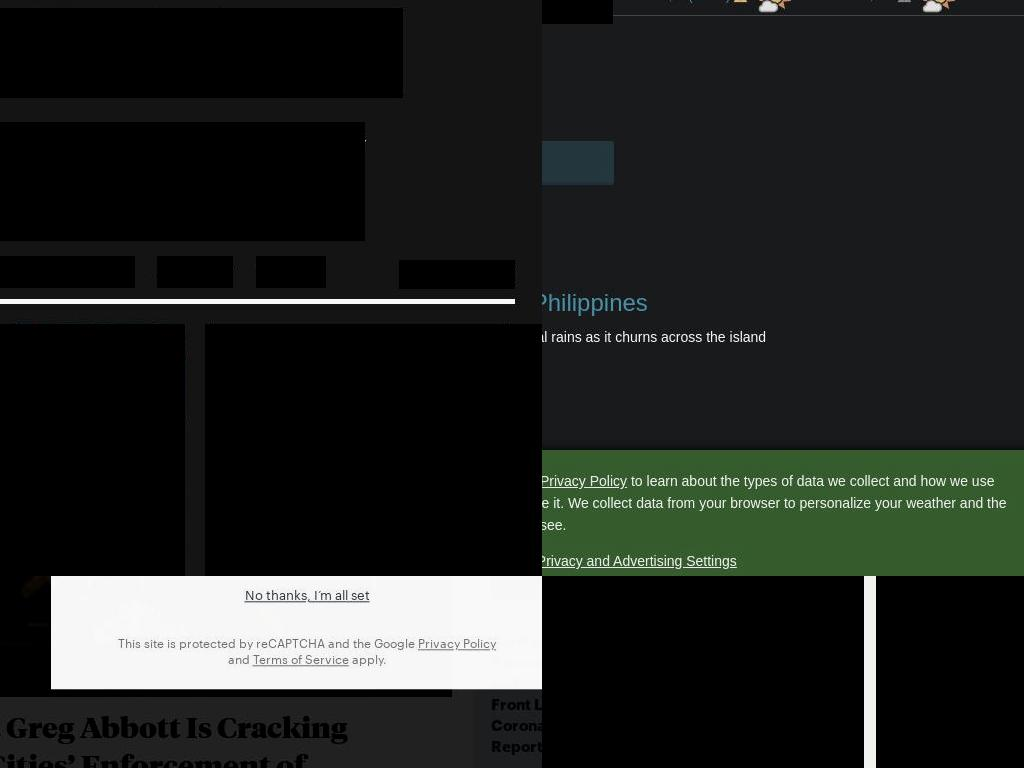button: (205, 324, 542, 576), (0, 576, 452, 697), (0, 324, 185, 576), (491, 630, 542, 757), (0, 256, 135, 288), (542, 551, 737, 572), (542, 0, 754, 15), (542, 141, 614, 185), (753, 0, 917, 15), (157, 256, 233, 288), (256, 256, 326, 288), (542, 0, 613, 24), (916, 0, 1024, 15)
heading: (0, 122, 365, 241), (0, 708, 361, 768), (491, 630, 542, 757), (542, 509, 727, 536), (542, 289, 649, 316)
iframe: (0, 576, 542, 768)
image: (205, 324, 542, 574), (209, 324, 509, 574), (542, 576, 864, 768), (0, 576, 452, 697), (0, 324, 185, 574), (0, 8, 403, 98), (876, 576, 1024, 768), (758, 0, 793, 13), (921, 0, 956, 13), (542, 0, 562, 13)
label: (399, 260, 515, 289)
link: (542, 473, 627, 489), (733, 0, 749, 5), (896, 0, 912, 5)
text: (542, 473, 1007, 533), (542, 327, 791, 369), (542, 547, 791, 576), (542, 0, 603, 7), (601, 0, 733, 3), (832, 0, 898, 3), (567, 0, 581, 3), (798, 0, 812, 3), (961, 0, 975, 3), (589, 0, 597, 3), (819, 0, 827, 3), (983, 0, 991, 3)
